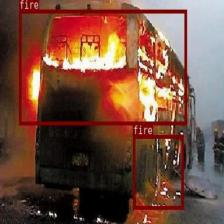fire: (18, 9, 186, 125), (133, 134, 183, 208)
